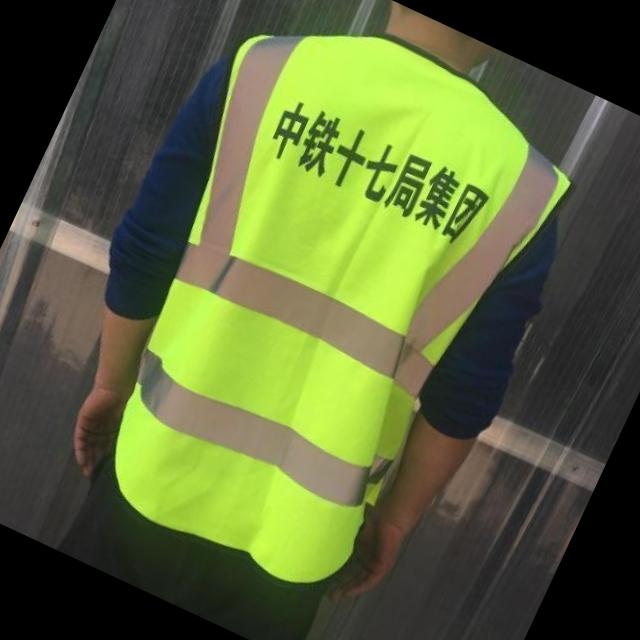safety_vest: (38, 0, 594, 627)
